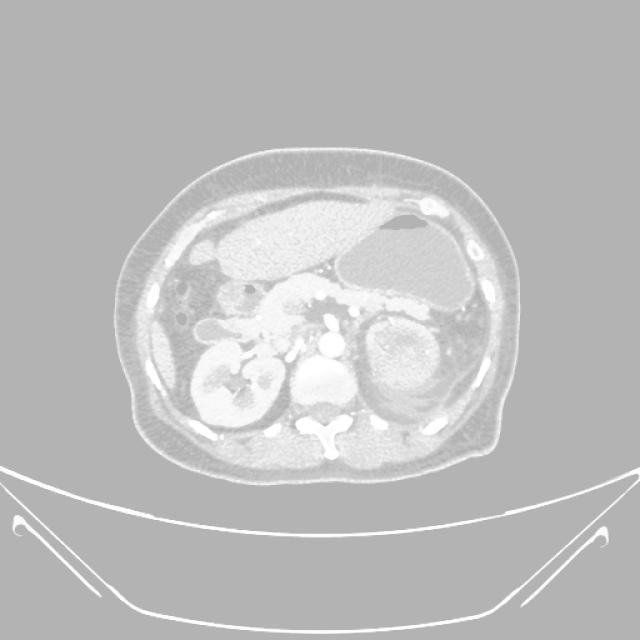TUMOR: (116, 182, 501, 410)
